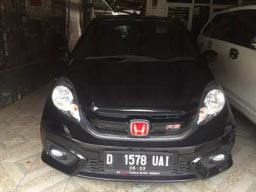plat: (106, 152, 173, 168)
